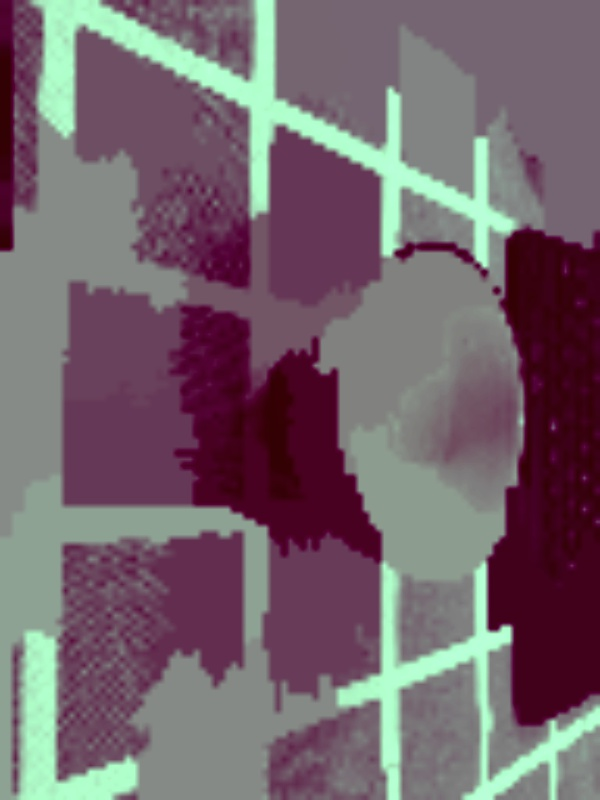bowl_small: (260, 230, 533, 588)
